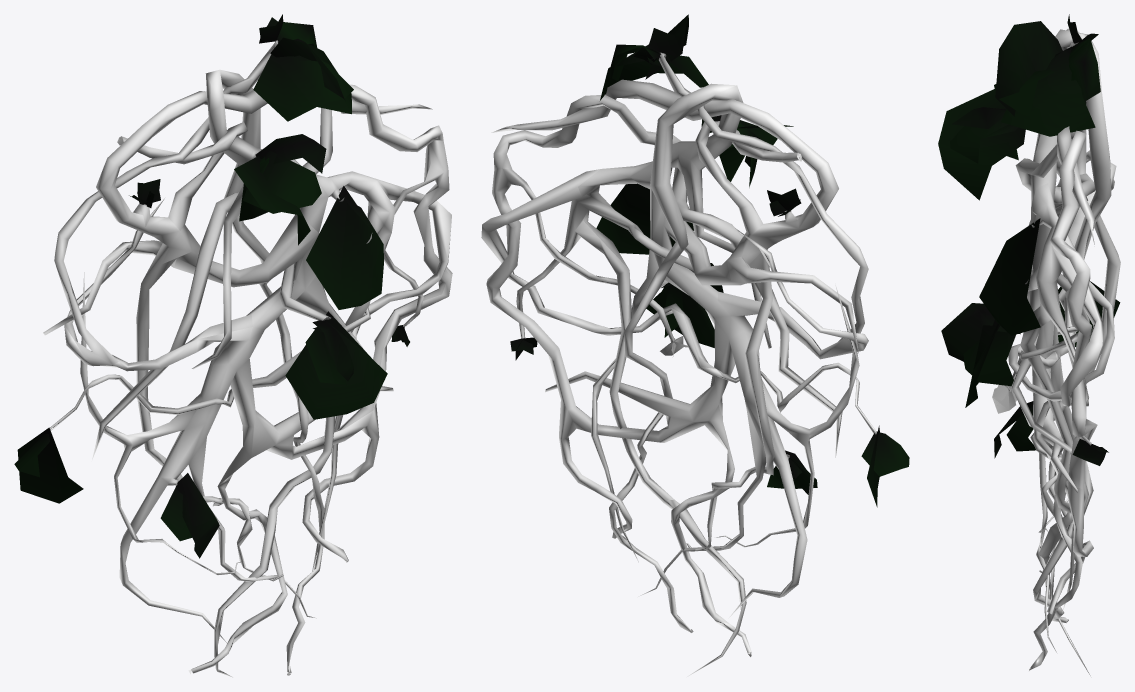
Rendered from Nature_Shield_afsTREE_LOD4.fbx.
3 views of the same model, side by side, from view 1: azimuth 30°, elevation 25°; view 2: azimuth 150°, elevation 25°; view 3: azimuth 270°, elevation 25° (orthographic). The views are drawn at different scales.
Parts seen in each view (by area): view 1: trunk_xw00_xt00, branch01.013_xw02_xt05_xp07, branch01.018_xp03, branch01.011, branch01.021_xp05, branch01.009, branch01.023_xp04, branch01.010_xp05, branch01.008_xp07, branch01.020_xp10, branch01.005_xp09, branch01.019 (+3 smaller); view 2: trunk_xw00_xt00, branch01.013_xw02_xt05_xp07, branch01, branch01.018_xp03, branch01.007_xw16_xp10, branch01.006_xw15_xt15, branch01.004, branch01.022; view 3: trunk_xw00_xt00, branch01.013_xw02_xt05_xp07, branch01.007_xw16_xp10, branch01.010_xp05, branch01.005_xp09, branch01.019, branch01.020_xp10, branch01.006_xw15_xt15, branch01.009, branch01.011, branch01.018_xp03, branch01.008_xp07 (+5 smaller).
Boxes of the visible parts, x1,y1,x2,y2 form: trunk_xw00_xt00: (43, 40, 452, 677); branch01.013_xw02_xt05_xp07: (306, 186, 383, 309); branch01.018_xp03: (285, 311, 387, 419); branch01.011: (253, 54, 353, 121); branch01.021_xp05: (17, 427, 83, 503); branch01.009: (243, 151, 321, 213); branch01.023_xp04: (177, 473, 219, 558); branch01.010_xp05: (234, 156, 310, 245); branch01.008_xp07: (255, 134, 326, 173); branch01.020_xp10: (305, 320, 346, 385); branch01.005_xp09: (270, 37, 345, 100); branch01.019: (312, 320, 353, 380); trunk_xw00_xt00: (481, 52, 876, 676); branch01.013_xw02_xt05_xp07: (596, 183, 693, 254); branch01: (861, 431, 909, 476); branch01.018_xp03: (646, 285, 714, 347); branch01.007_xw16_xp10: (600, 44, 683, 100); branch01.006_xw15_xt15: (608, 44, 660, 81); branch01.004: (648, 28, 682, 56); branch01.022: (767, 458, 817, 488); trunk_xw00_xt00: (1007, 28, 1120, 675); branch01.013_xw02_xt05_xp07: (979, 218, 1040, 335); branch01.007_xw16_xp10: (1001, 49, 1095, 136); branch01.010_xp05: (938, 89, 1025, 200); branch01.005_xp09: (995, 21, 1062, 116); branch01.019: (941, 303, 1020, 361); branch01.020_xp10: (963, 331, 1015, 386); branch01.006_xw15_xt15: (1068, 38, 1100, 101); branch01.009: (950, 108, 1017, 163); branch01.011: (994, 46, 1072, 118); branch01.018_xp03: (965, 320, 1000, 407); branch01.008_xp07: (952, 107, 1005, 128).
Bounding box in the file's own units: 3.05 × 4.39 × 1.08.
